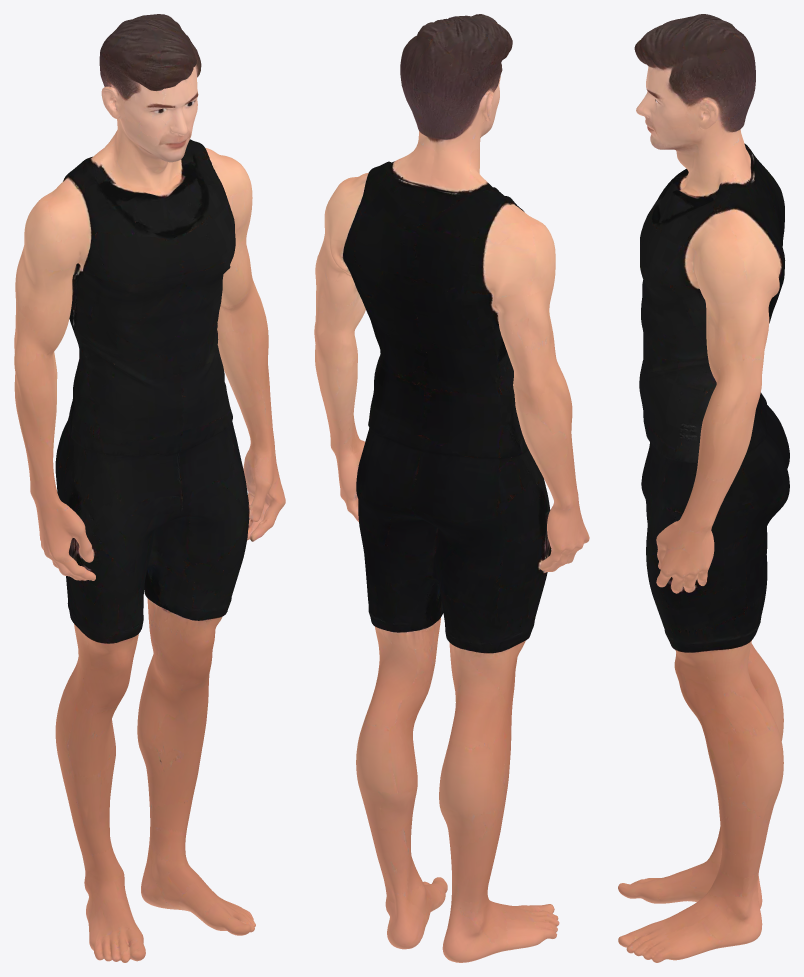
File: male-avatar.mobile.glb
3 renders of one model, left to right at view 1: azimuth 30°, elevation 25°; view 2: azimuth 150°, elevation 25°; view 3: azimuth 270°, elevation 25°, orthographic.
Visible parts, largest first — view 1: Mesh_0; view 2: Mesh_0; view 3: Mesh_0.
Boxes of the visible parts, x1=… form: Mesh_0: x1=14, y1=14, x2=285, y2=962; Mesh_0: x1=314, y1=14, x2=589, y2=962; Mesh_0: x1=618, y1=14, x2=789, y2=962.
Size of the model in its own units: 0.5426 by 1.9 by 0.3268.
Materials: 1 (1 with a texture image).
